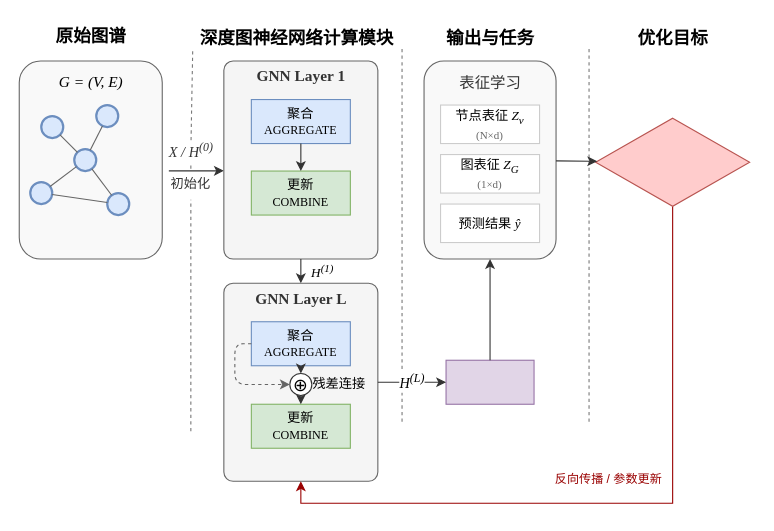
Some shapes in this 774 by 531 pixel diagram are drawn without their labels. The shapes that lost their labels are listed below. From the top down, each one's centre as x and y in pixels, then its label:
[672,161]: 损失函数 L(y, ŷ)
[489,381]: 读出操作 READOUT
